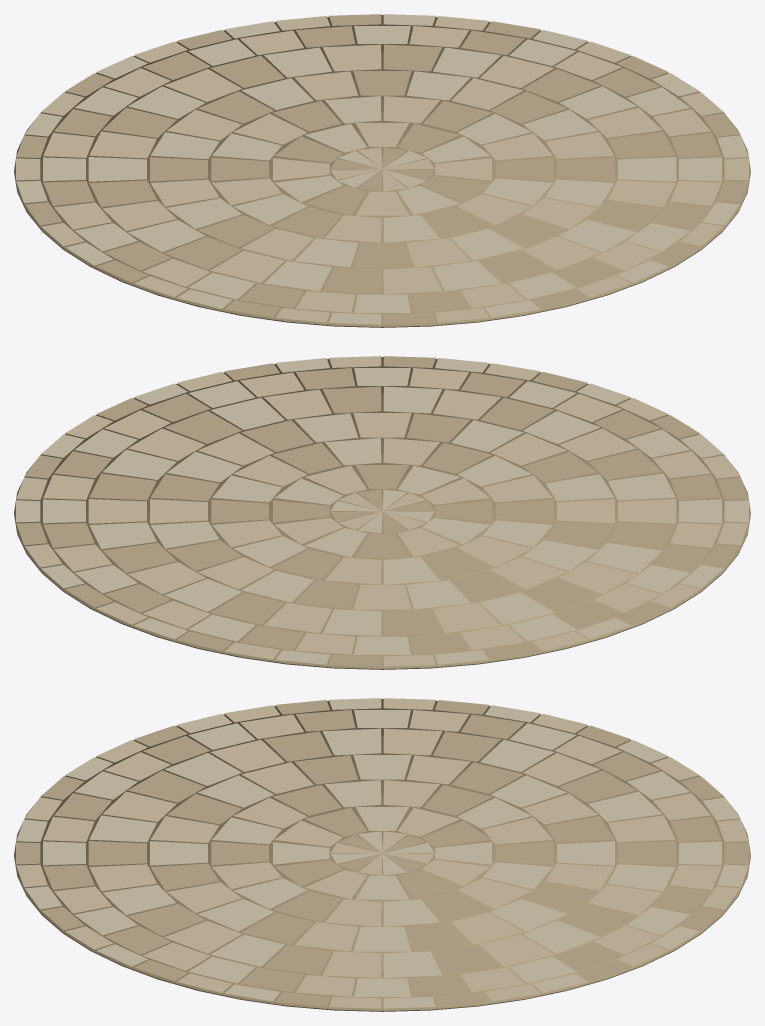
File: floor_mosaic.glb
3 renders of one model, top to bottom at view 1: azimuth 30°, elevation 25°; view 2: azimuth 150°, elevation 25°; view 3: azimuth 270°, elevation 25°, orthographic.
Visible parts, largest first — view 1: Body; view 2: Body; view 3: Body.
Part boxes in pixels (box(x1,y1,x2,y2)): Body: box(14, 14, 750, 327); Body: box(14, 356, 750, 669); Body: box(14, 698, 750, 1011).
Bounding box in the file's own units: 1.94 × 0.008 × 1.94.
